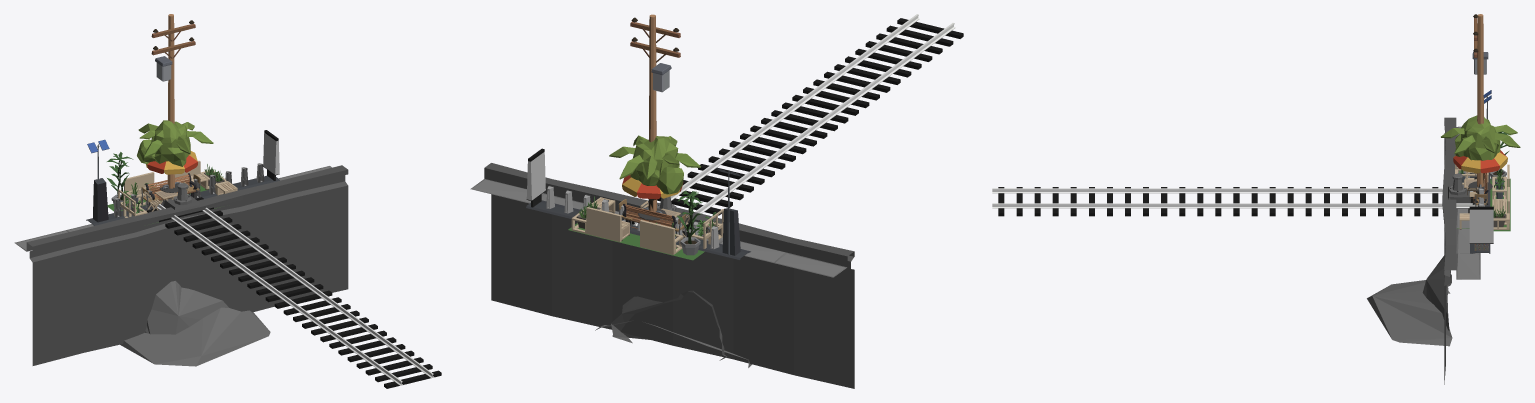
File: street-props.gltf
The picture shows the model from 3 angles, left to right: view 1: azimuth 30°, elevation 25°; view 2: azimuth 150°, elevation 25°; view 3: azimuth 270°, elevation 25°; orthographic projection. The views are drawn at different scales.
Visible parts, largest first — view 1: sea_wall, track, bike_share, parklet, utility_pole, tree-01, outdoor_dining, palmtree, park_bench; view 2: sea_wall, track, parklet, bike_share, utility_pole, tree-01, palmtree, outdoor_dining, park_bench; view 3: track, sea_wall, parklet, bike_share, tree-01, utility_pole, outdoor_dining, palmtree.
Part boxes in pixels (x1,y1,x2,y2): sea_wall: [14, 165, 348, 366]; track: [147, 194, 441, 388]; bike_share: [86, 130, 279, 225]; parklet: [107, 152, 237, 223]; utility_pole: [151, 14, 195, 188]; tree-01: [137, 120, 190, 198]; outdoor_dining: [141, 151, 200, 211]; palmtree: [138, 122, 213, 157]; park_bench: [145, 173, 195, 209]; sea_wall: [470, 163, 854, 388]; track: [629, 14, 963, 237]; parklet: [568, 191, 723, 260]; bike_share: [526, 148, 750, 259]; utility_pole: [630, 14, 680, 222]; tree-01: [630, 136, 683, 210]; palmtree: [609, 135, 700, 179]; outdoor_dining: [618, 175, 686, 236]; park_bench: [623, 204, 676, 238]; track: [992, 187, 1477, 216]; sea_wall: [1367, 117, 1480, 384]; parklet: [1455, 131, 1510, 231]; bike_share: [1469, 90, 1493, 253]; tree-01: [1455, 115, 1500, 194]; utility_pole: [1472, 14, 1488, 192]; outdoor_dining: [1453, 150, 1507, 206]; palmtree: [1441, 119, 1520, 154].
Bounding box in the file's own units: 15 × 13.83 × 21.91.
1 material, 1 textured.
